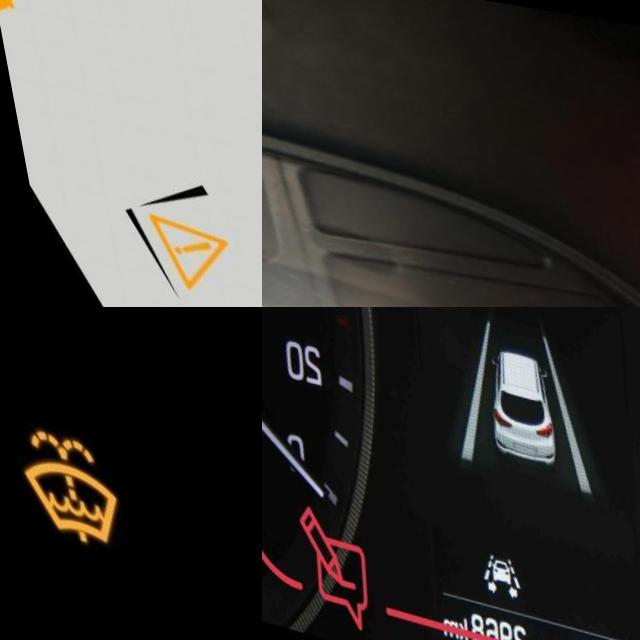Washer Fluid: (8, 418, 115, 536)
